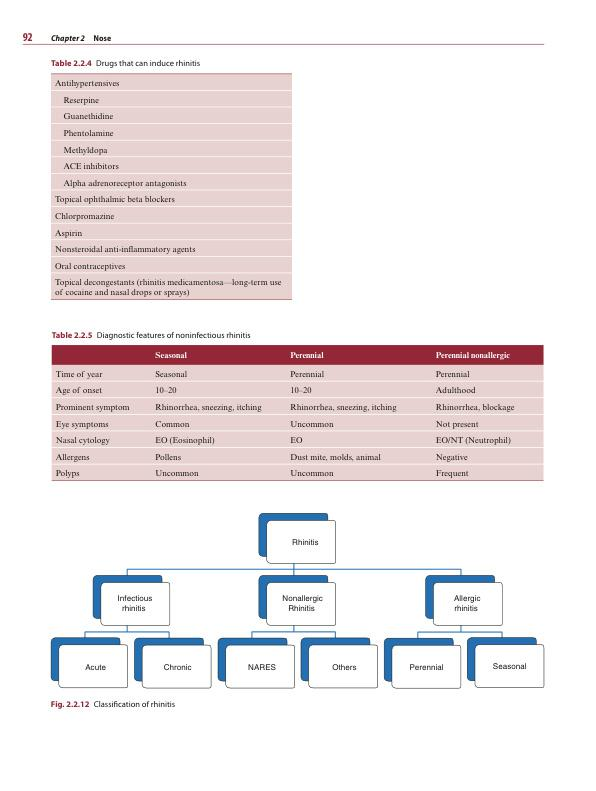caption: (50, 331, 252, 341), (50, 58, 201, 69), (49, 699, 177, 711)
header: (50, 34, 112, 44)
image: (47, 508, 549, 695)
table: (51, 345, 544, 481), (51, 73, 293, 300)
